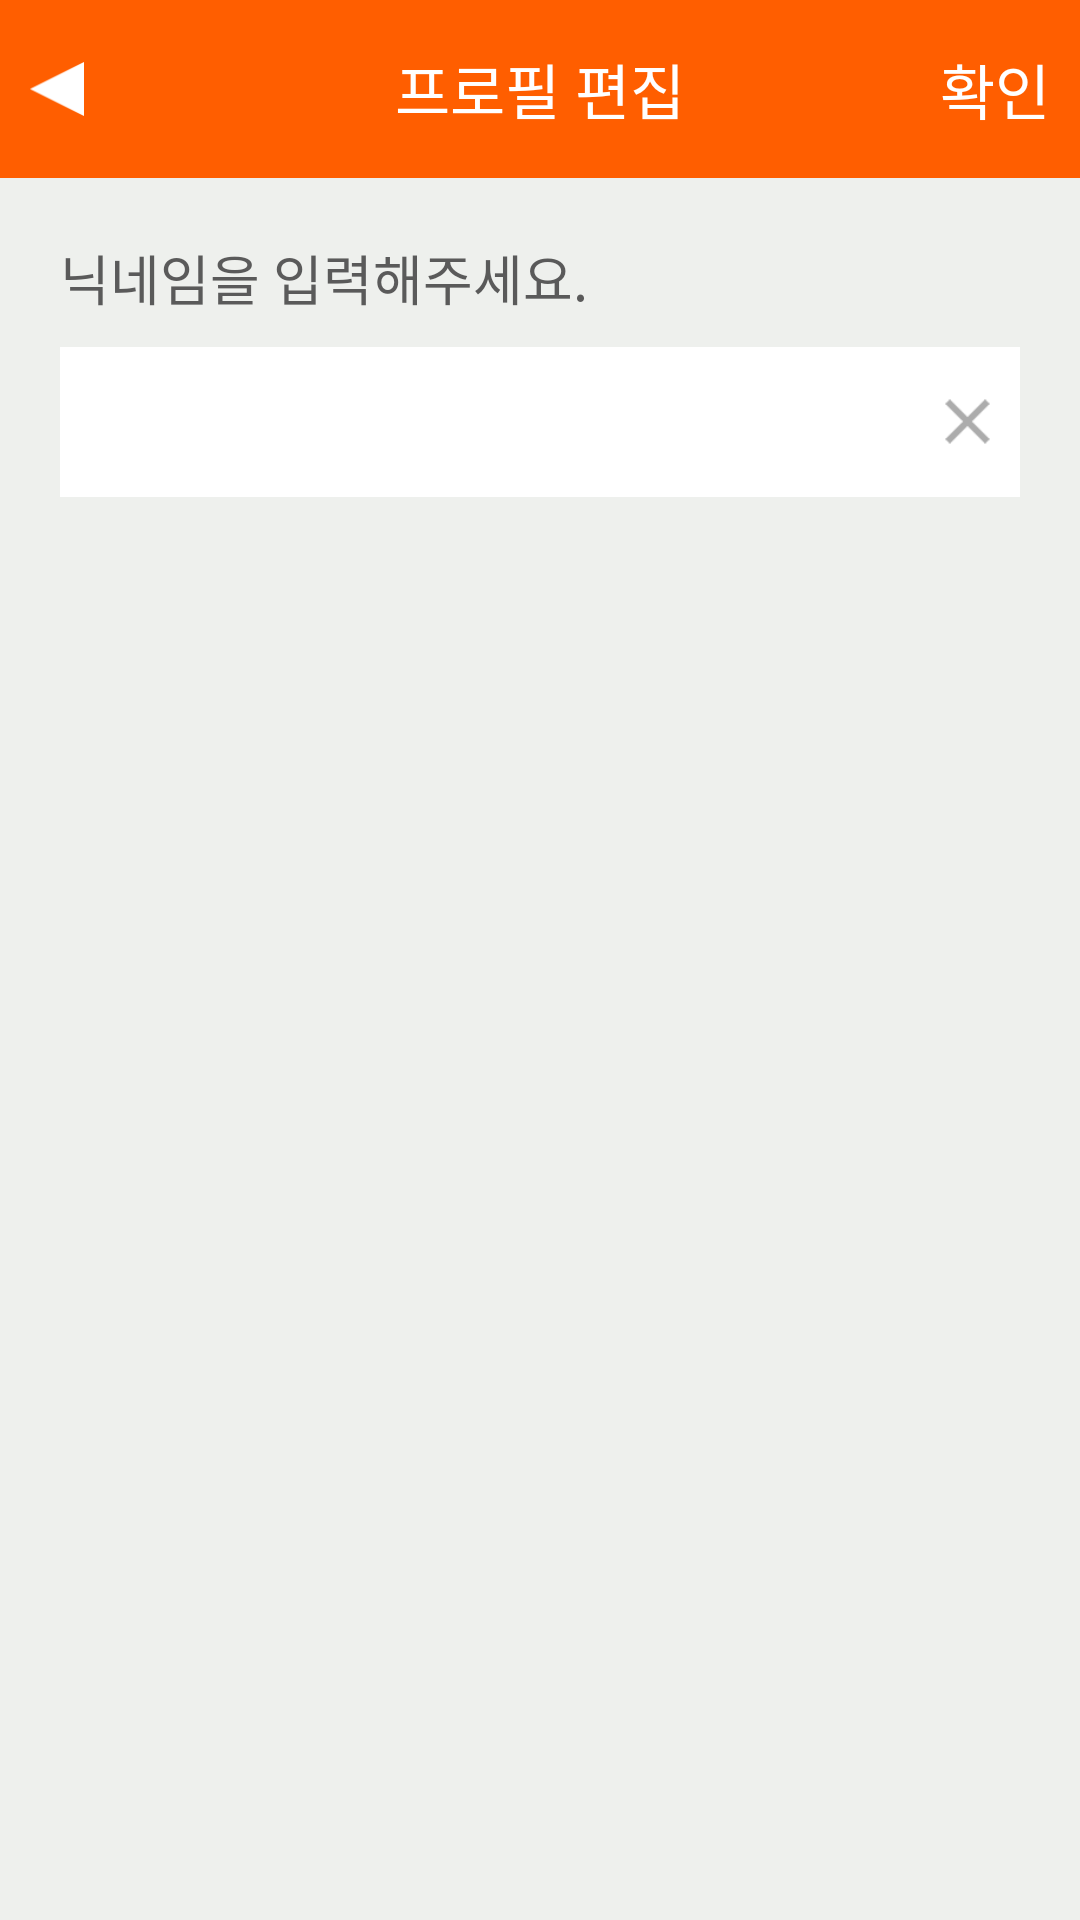

Where to tap for icons on this 1080px×1920px app screen, as (x=x, y=y):
arrow: (x=57, y=89)
